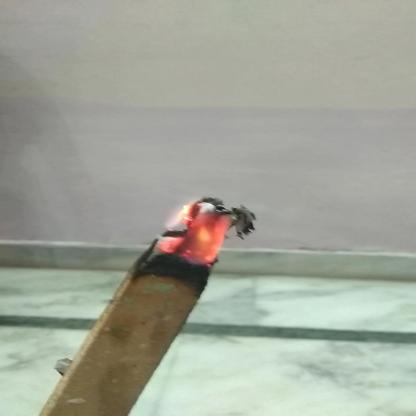fire: (158, 196, 236, 264)
